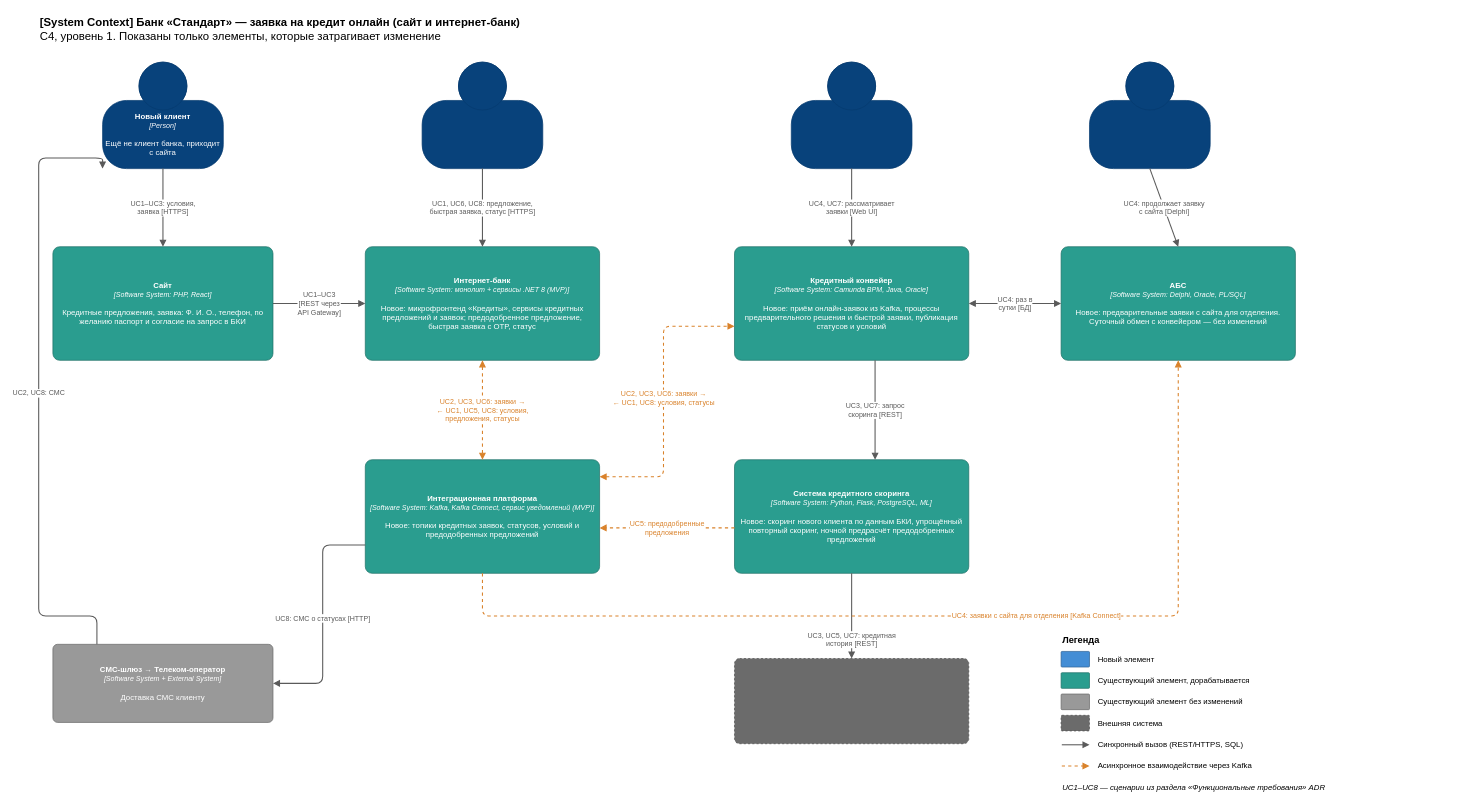
This 1470x807 diagram has some shape labels left out. Each missing label, with the centre of its shape:
Бюро кредитных историй [External System] Кредитная история по REST API: pixel 851 701
Клиент банка [Person] Пользователь интернет-банка: pixel 482 115
Сотрудник кредитования [Person] Принимает решение по заявке: pixel 851 115
Сотрудник отделения [Person] Идентифицирует клиента, продолжает заявку: pixel 1149 115
